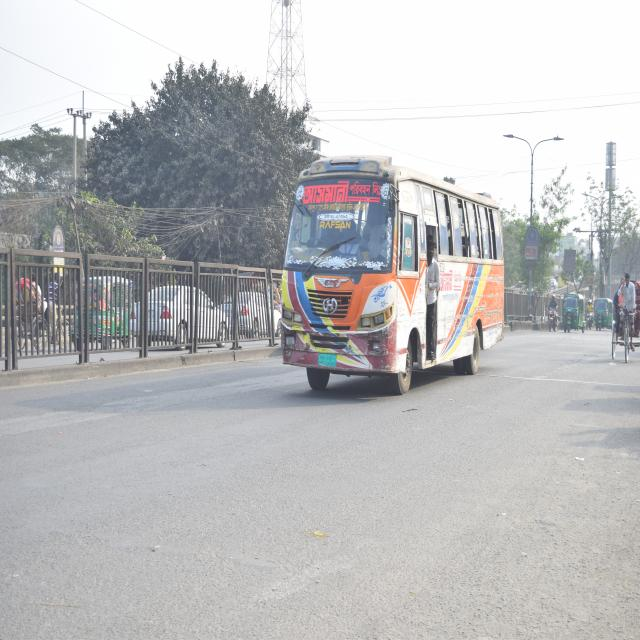bus: (267, 144, 508, 404)
motorbike: (541, 292, 559, 339), (581, 297, 597, 335)
